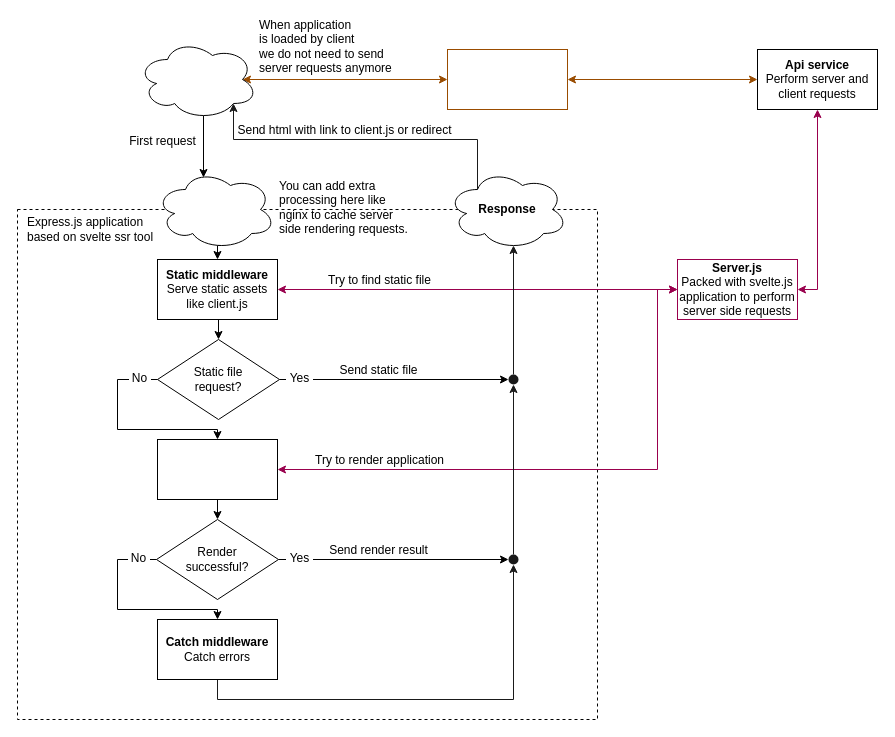
This 895x737 diagram has some shape labels left out. Each missing label, with the centre of its shape:
"Client" belongs at point 197,79.
"Client.js Packed with svelte.js application to perform client interactions" belongs at point 507,79.
"Magic" belongs at point 215,209.
"Render middleware Render svelte.js" belongs at point 217,469.
